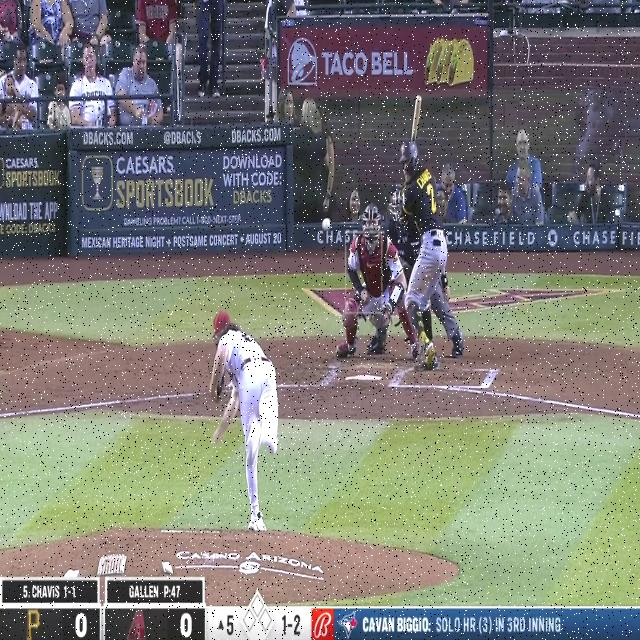baseball: (322, 218, 331, 231)
